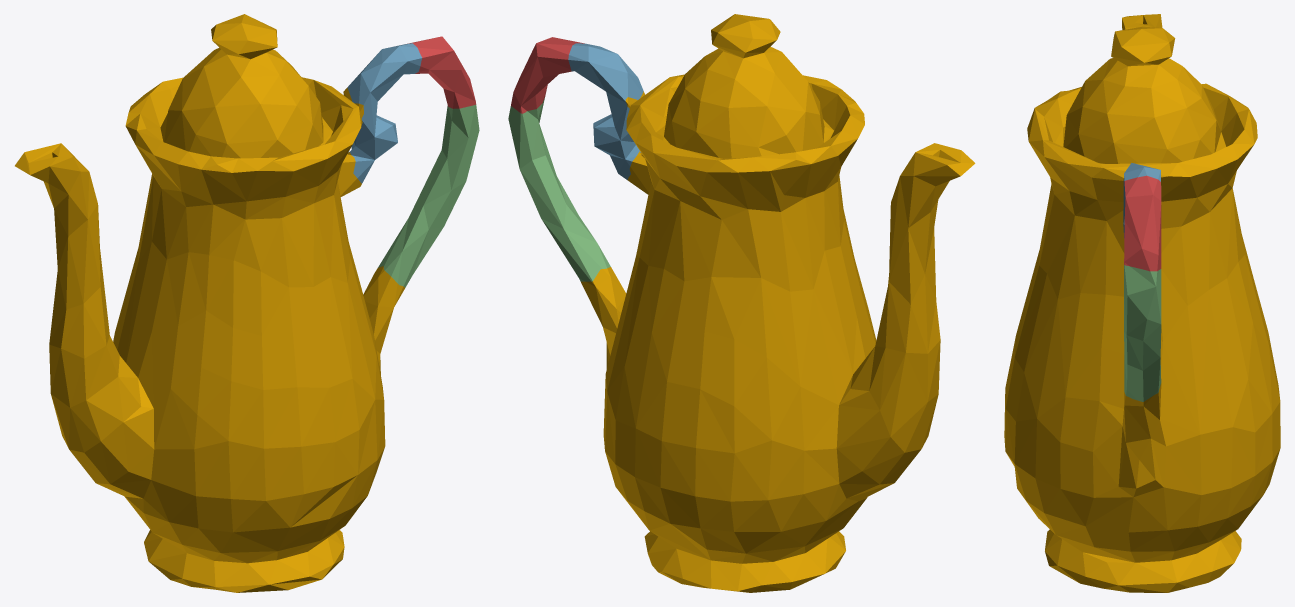
Rendered from fractured_15_4pcs.glb.
3 views of the same model, side by side, from view 1: azimuth 30°, elevation 25°; view 2: azimuth 150°, elevation 25°; view 3: azimuth 270°, elevation 25° (orthographic). The views are drawn at different scales.
Visible parts, largest first — view 1: piece_0.obj, piece_3.obj, piece_2.obj, piece_1.obj; view 2: piece_0.obj, piece_3.obj, piece_2.obj, piece_1.obj; view 3: piece_0.obj, piece_3.obj, piece_1.obj, piece_2.obj.
Part boxes in pixels (<box>): piece_0.obj: <box>15,14,404,592</box>; piece_3.obj: <box>378,104,479,287</box>; piece_2.obj: <box>347,43,422,183</box>; piece_1.obj: <box>407,36,475,108</box>; piece_0.obj: <box>581,14,975,592</box>; piece_3.obj: <box>508,98,610,281</box>; piece_2.obj: <box>568,43,643,179</box>; piece_1.obj: <box>511,37,584,113</box>; piece_0.obj: <box>1004,14,1280,592</box>; piece_3.obj: <box>1124,265,1161,401</box>; piece_1.obj: <box>1124,175,1161,271</box>; piece_2.obj: <box>1123,163,1160,237</box>.
Bounding box in the file's own units: 0.8875 × 1 × 0.4782.
